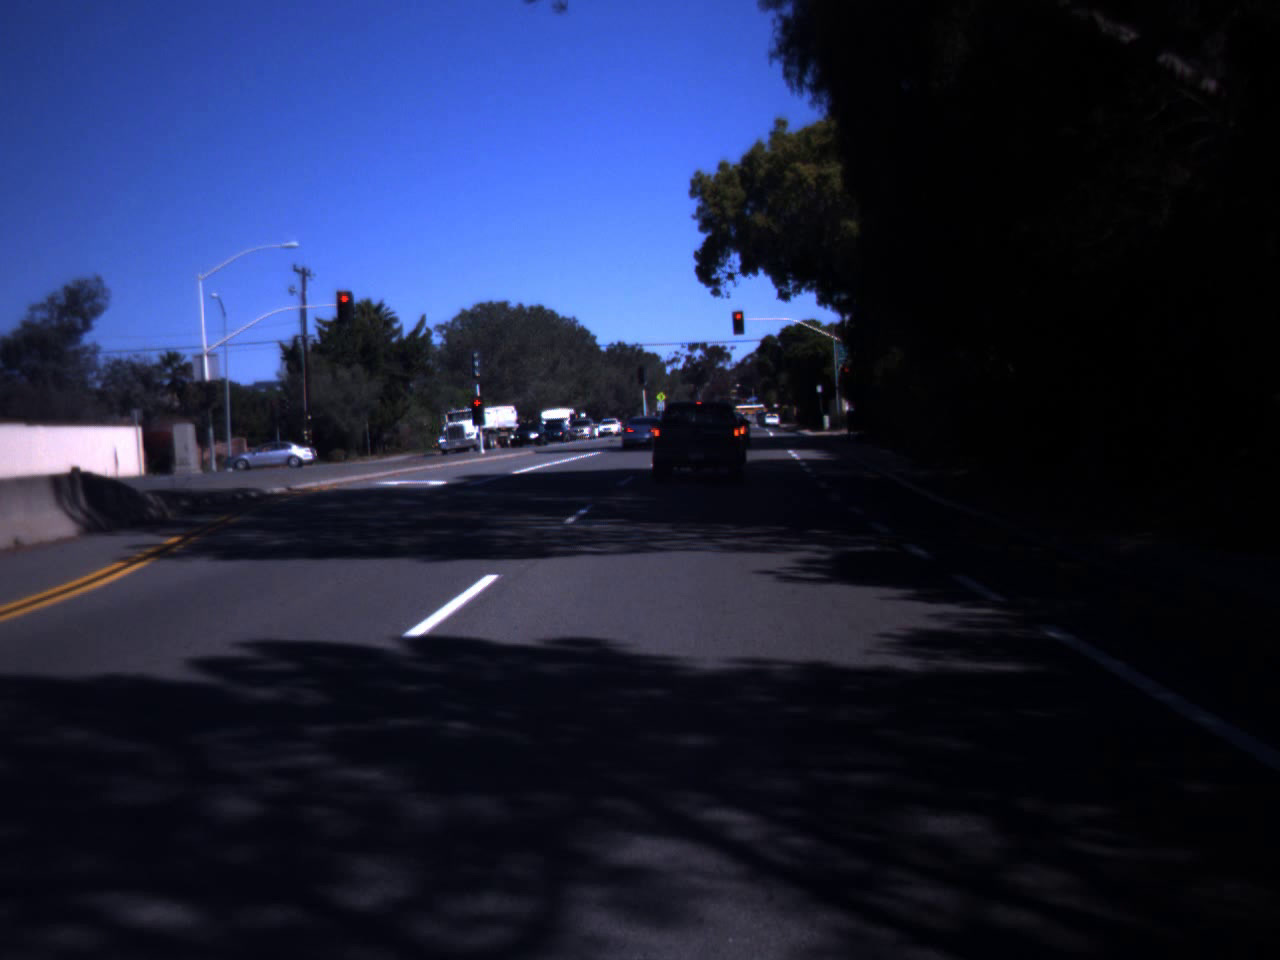stop: (336, 293, 354, 320), (470, 397, 485, 424), (732, 312, 744, 330)
